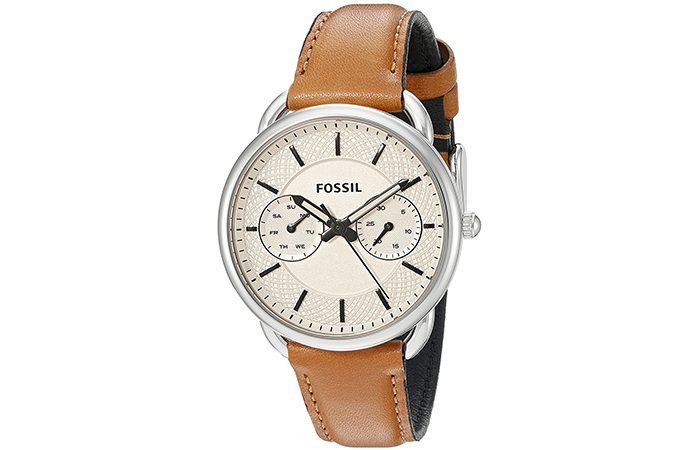clock: (217, 104, 467, 352)
